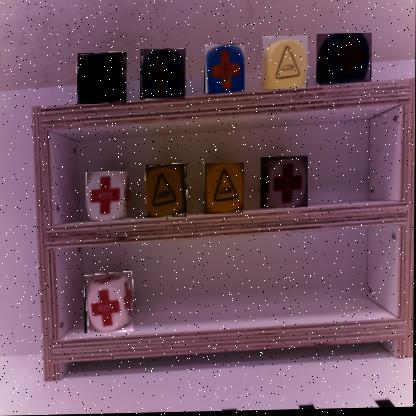CubeBlue: (317, 36, 374, 87), (78, 54, 129, 107), (141, 50, 188, 102), (205, 46, 247, 96)
CubeRed: (86, 274, 136, 335), (262, 158, 310, 211), (87, 173, 134, 222)
CubeYellow: (263, 38, 310, 93), (147, 166, 189, 220), (205, 165, 246, 217)
